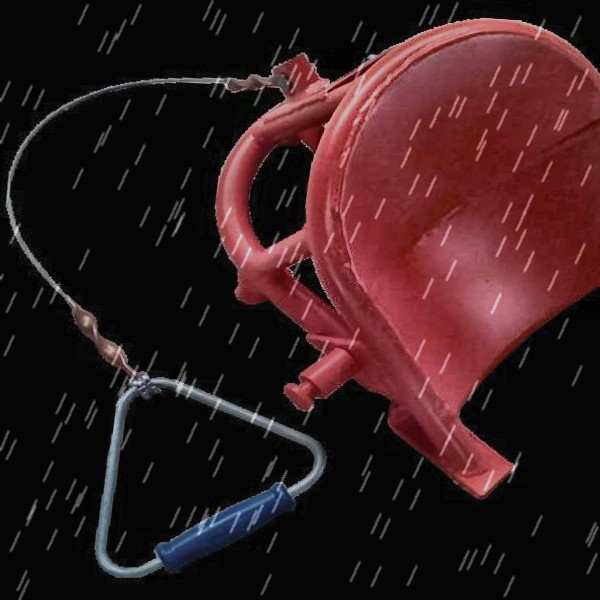chock: (170, 0, 600, 505)
